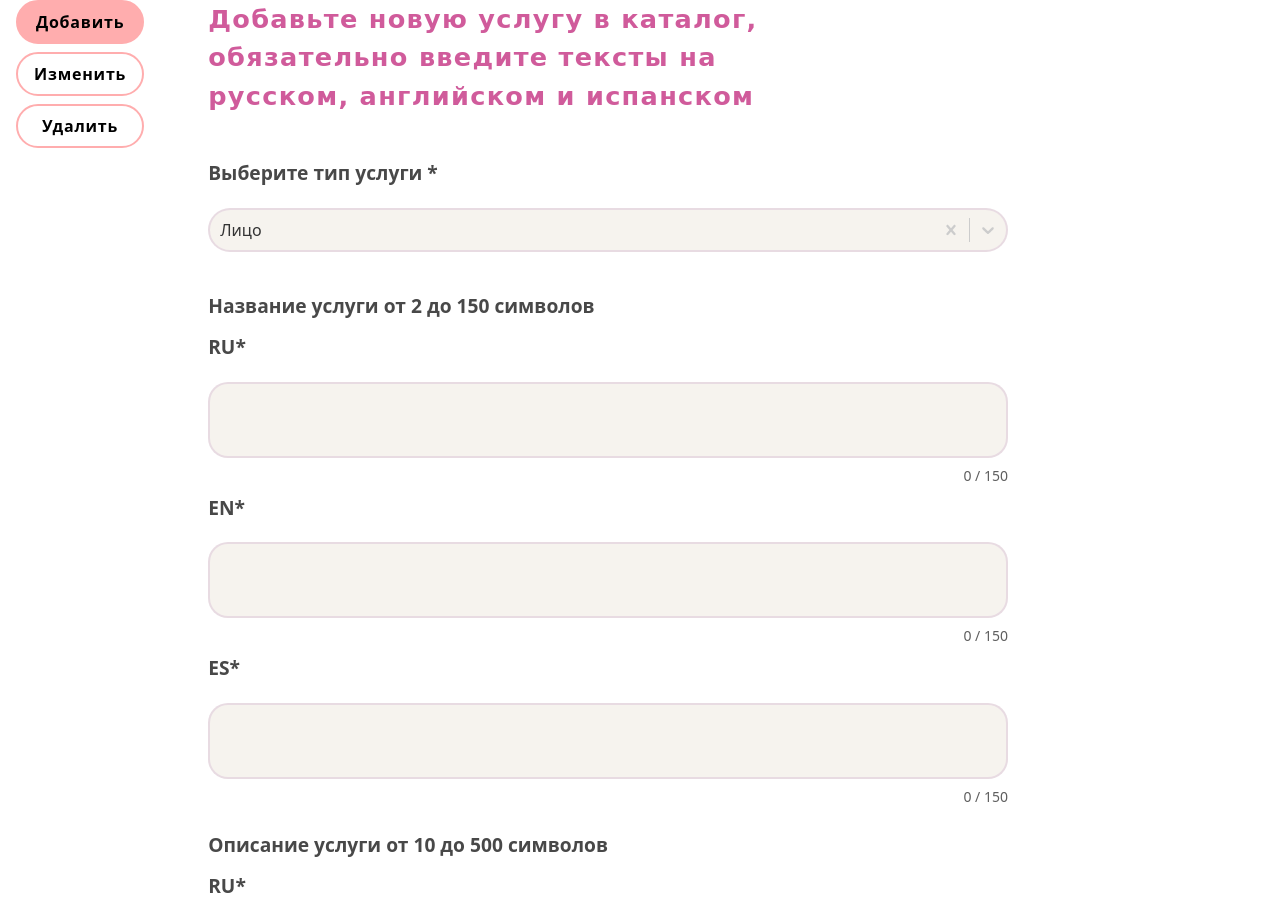
Test case: DashboardPanel — delete-service flow › names the service being deleted in the dialog
Click the button "Удалить" at (80,126), box [16,104,144,148]
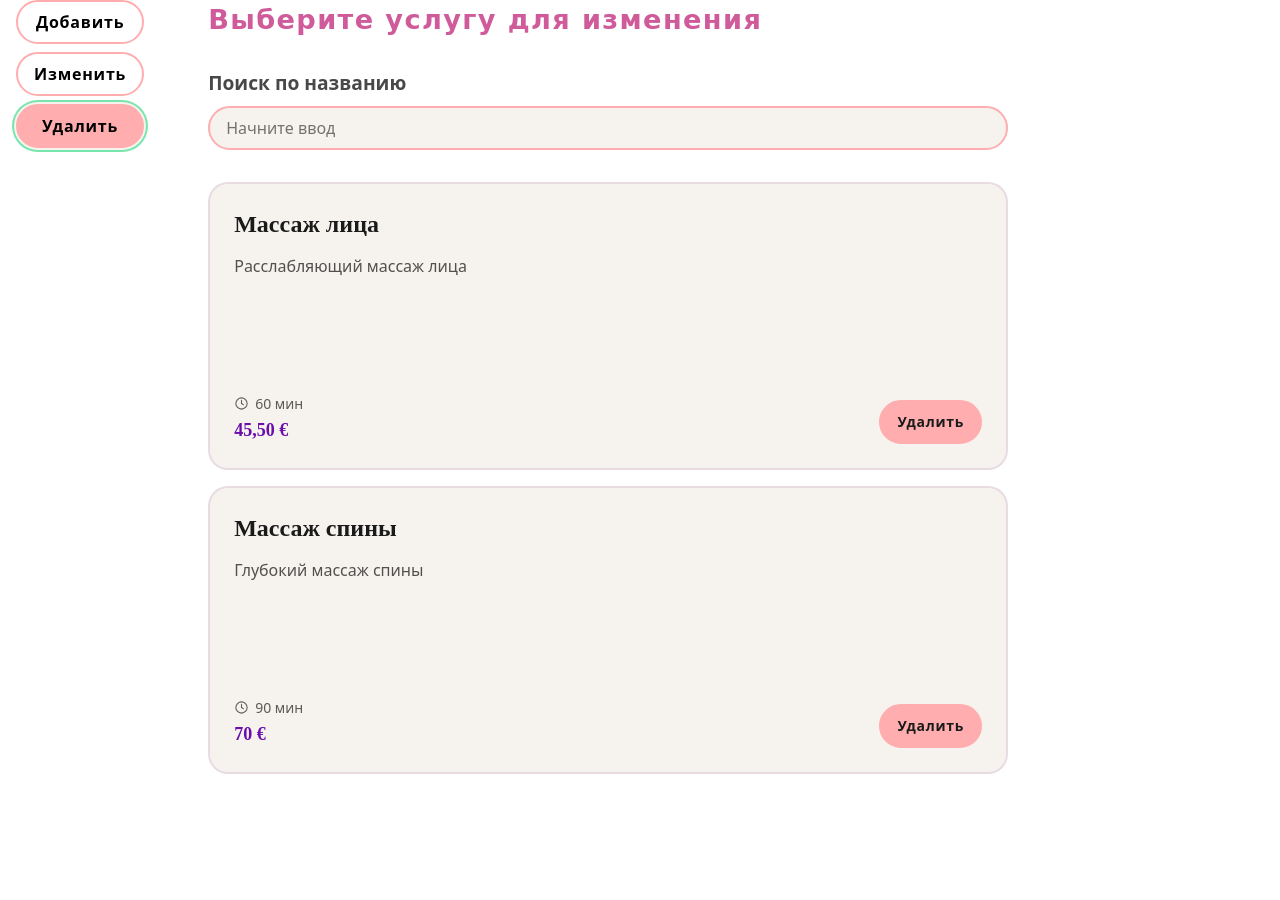
Click the button with aria-label "Удалить: Массаж спины" at (931,726), box [880,704,982,748]
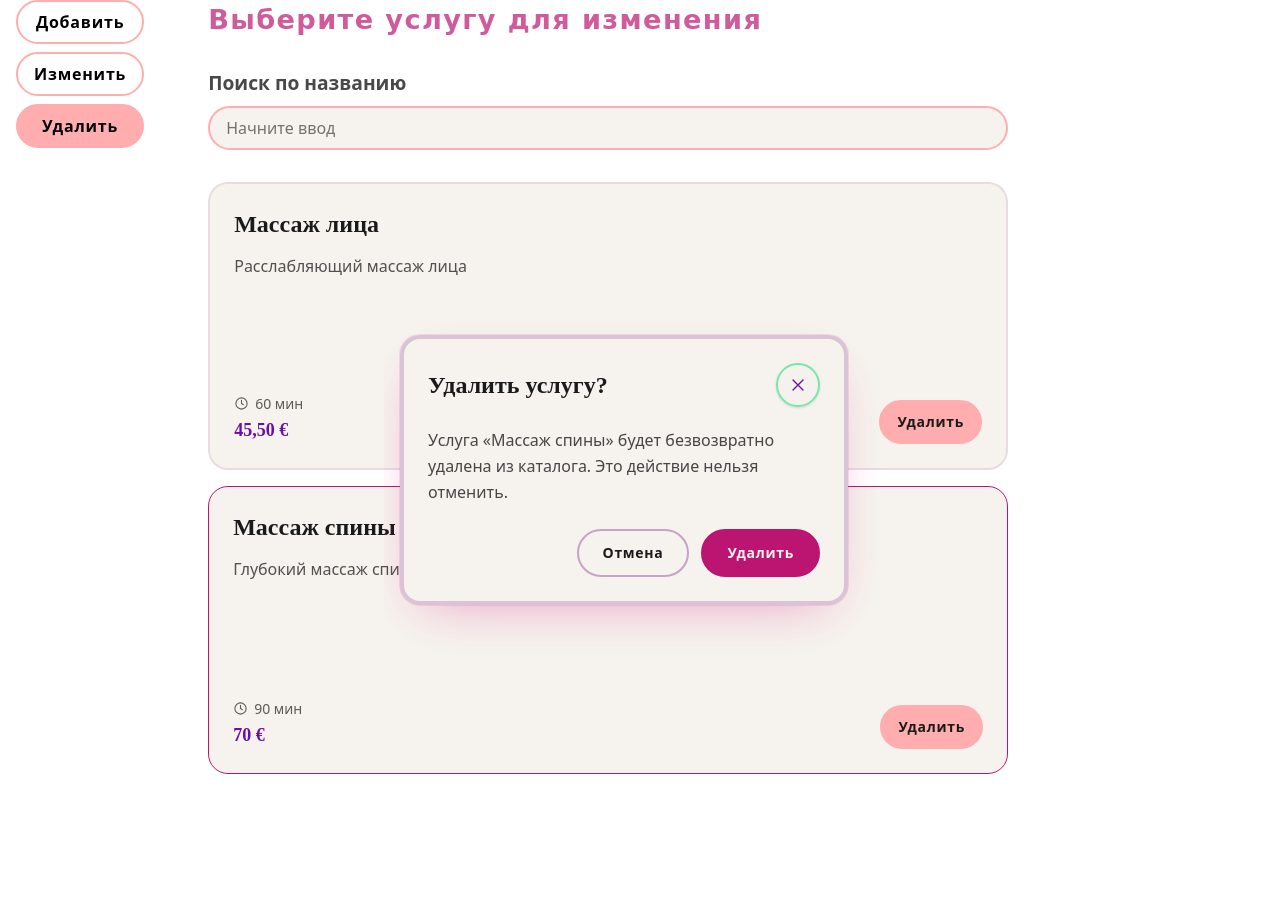
Check: the element with test id "delete-confirm-dialog" shows "Массаж спины", box [491,429,606,451]
